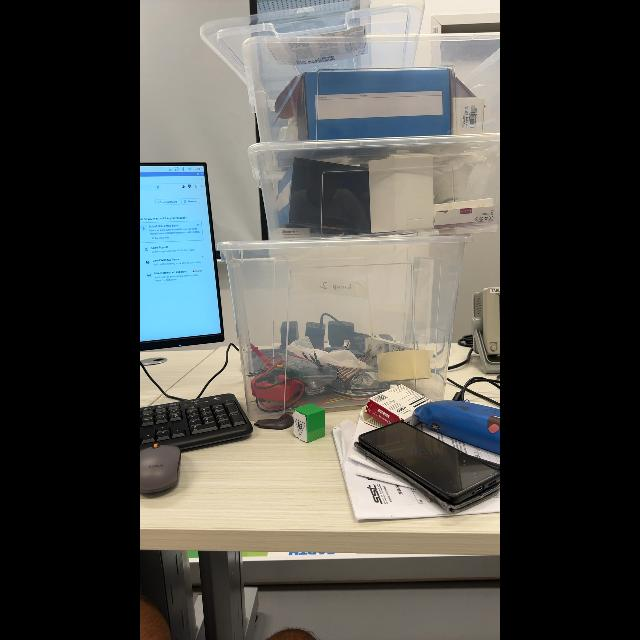Earthquake: (295, 419, 305, 432)
